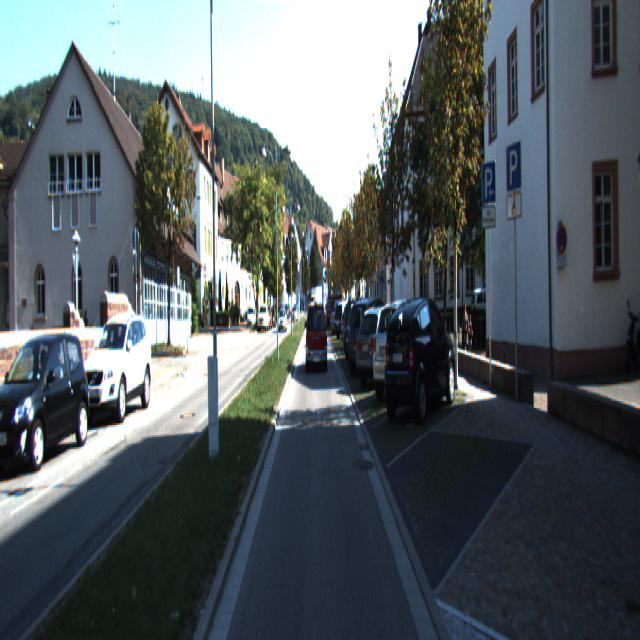Car: (0, 329, 94, 471), (381, 295, 457, 427), (80, 314, 154, 422), (371, 298, 442, 404), (352, 306, 413, 389), (346, 300, 398, 380), (346, 300, 393, 364), (341, 298, 384, 361), (306, 304, 328, 372), (327, 295, 349, 328), (258, 305, 270, 332), (278, 308, 287, 330)
